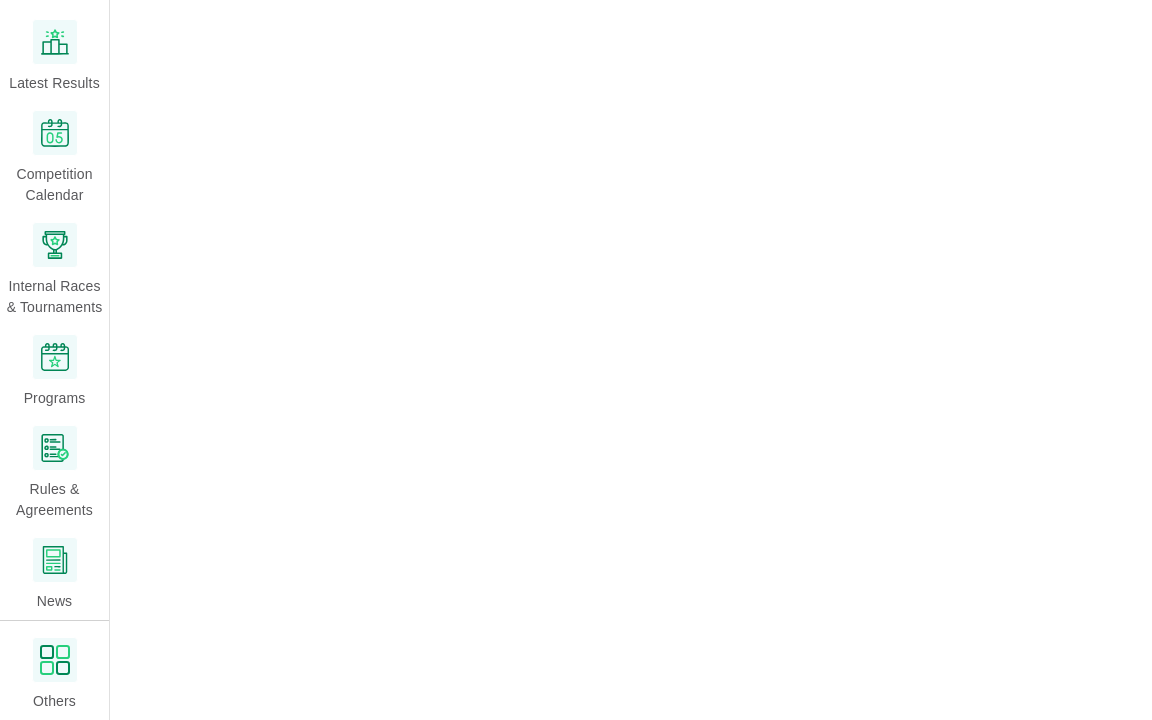
Sidebar › closes the dialog when suggestion/polls box is clicked
The image size is (1152, 720).
(page scrolled)
Click the text "Others" at [54, 702], box [33,691,76,712]
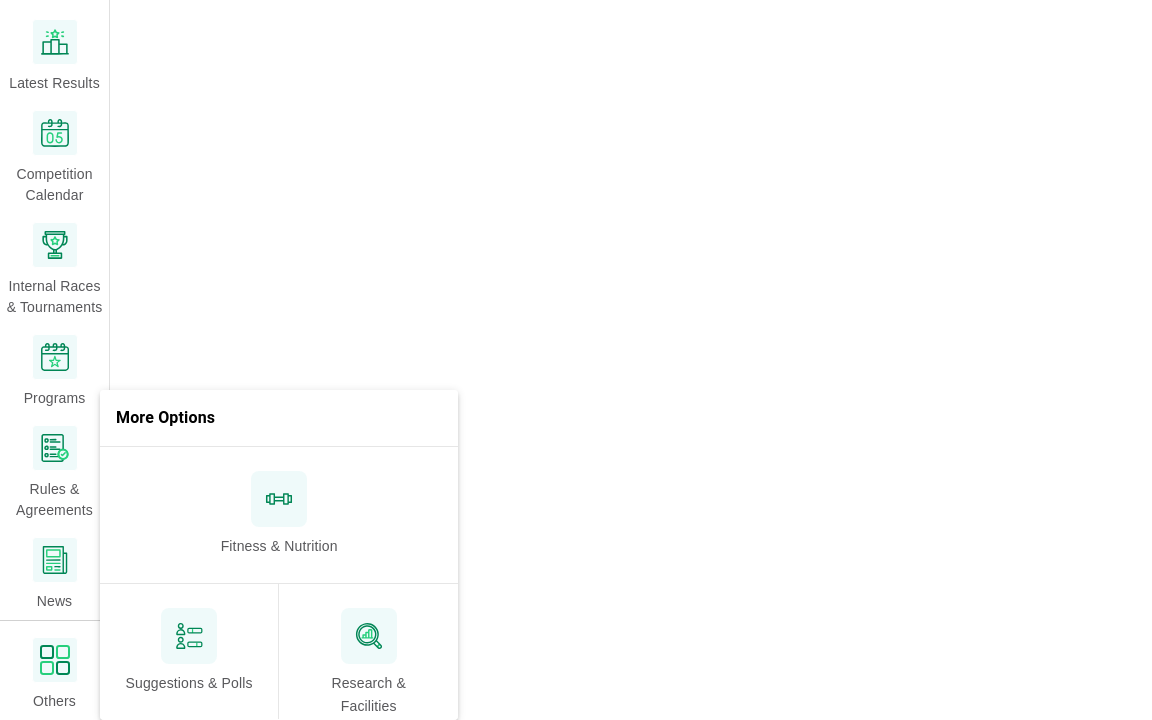
Check: the text "More Options" is shown, box [100,390,458,447]
Click the text "Suggestions & Polls" at [189, 683], box [126,672,252,695]
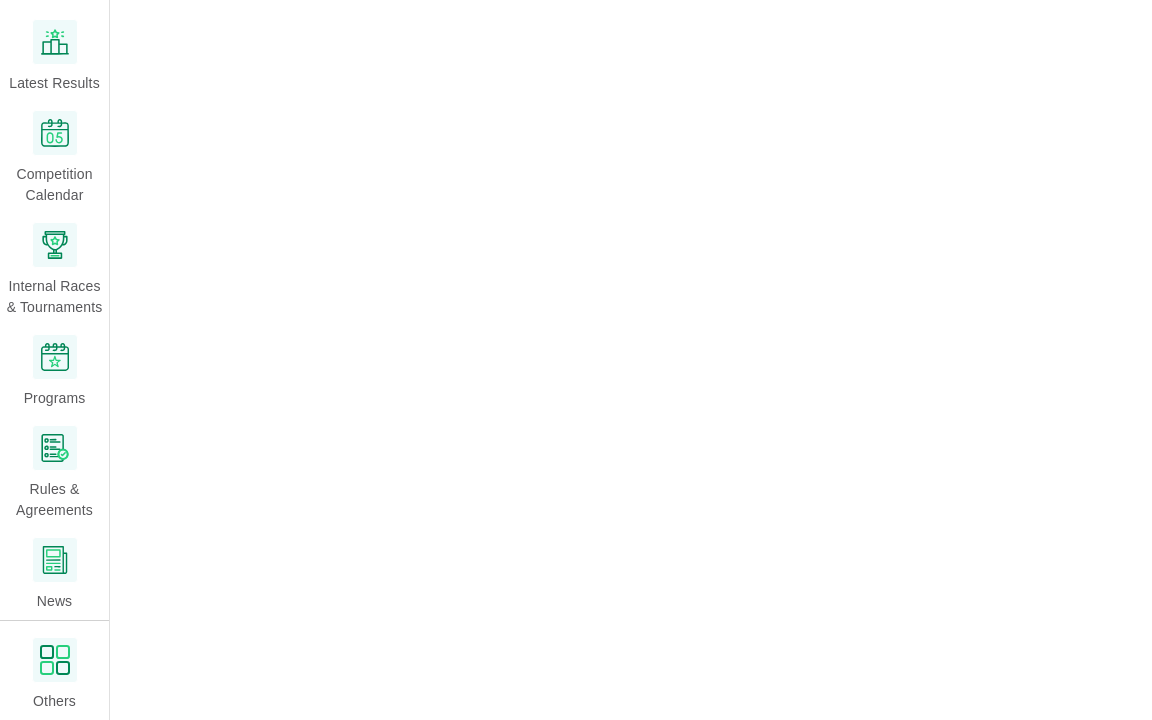
Check: the text "More Options" is gone
